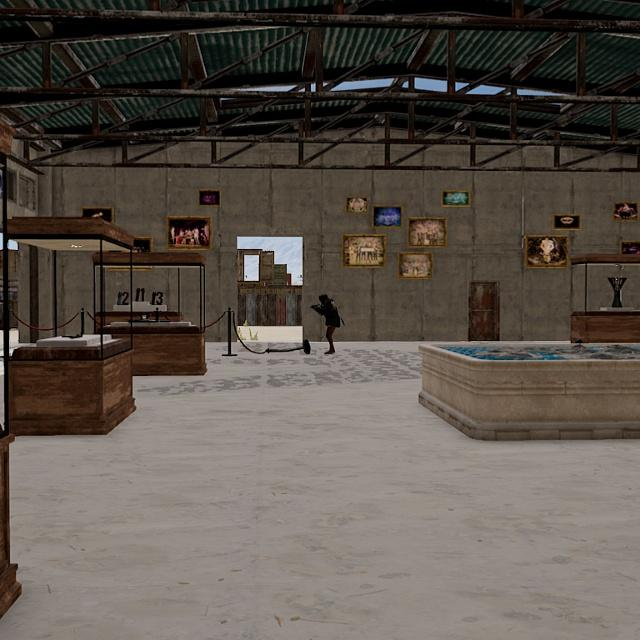head: (318, 293, 330, 306)
people: (315, 293, 341, 355)
